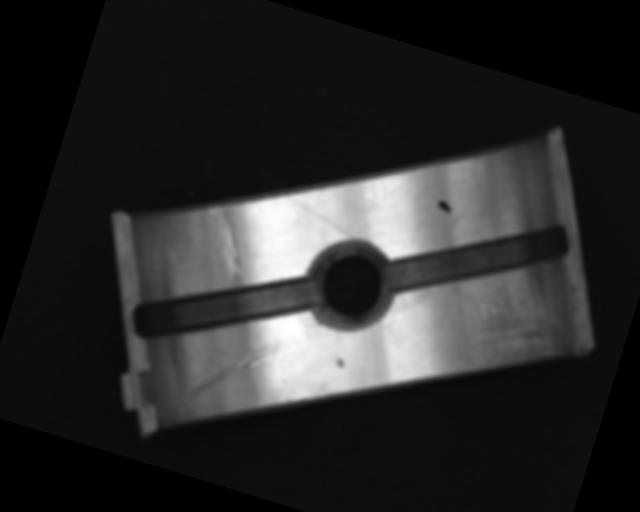blot: (434, 199, 454, 214)
bruise: (334, 356, 346, 369)
gap: (383, 181, 576, 333), (124, 233, 321, 381)
hole: (298, 229, 404, 338)
nick: (176, 323, 280, 439), (188, 201, 260, 288), (275, 193, 362, 240)
scratch: (429, 253, 584, 409)
